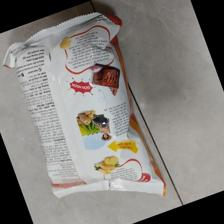Lays: (2, 11, 177, 201)
